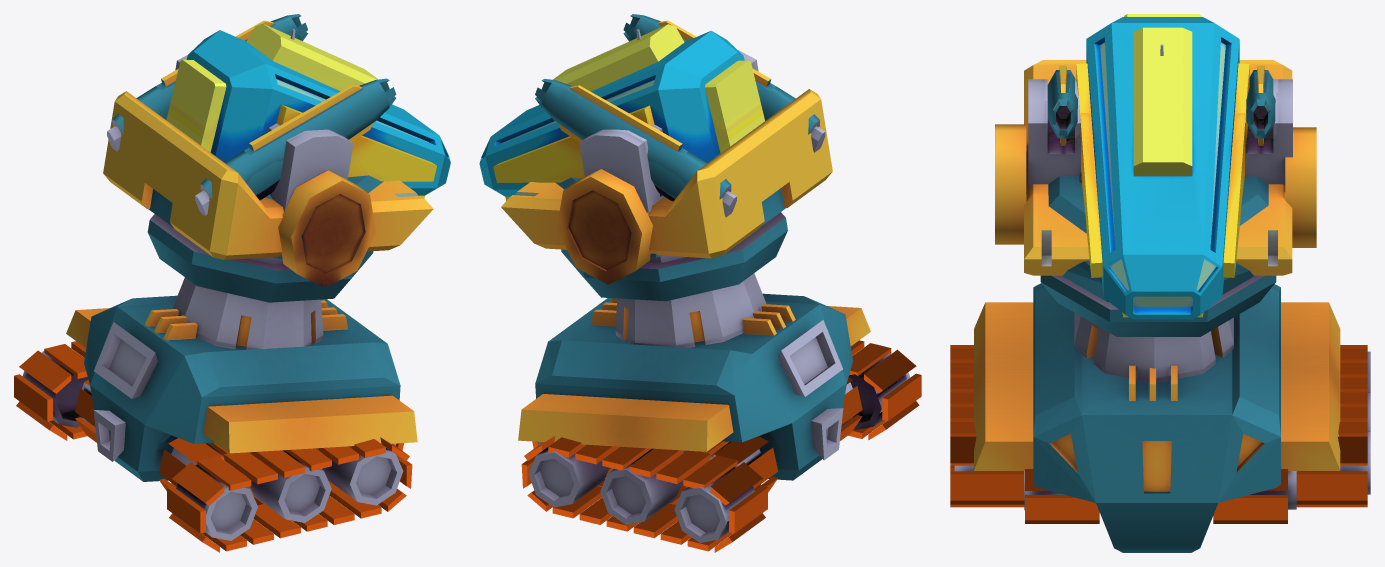
Rendered from Player_move_2_Upgrade15.obj.
The picture shows the model from 3 angles, left to right: view 1: azimuth 30°, elevation 25°; view 2: azimuth 150°, elevation 25°; view 3: azimuth 270°, elevation 25°; orthographic projection. The views are drawn at different scales.
Parts seen in each view (by area): view 1: Object015, Box020, Box018, Object014, Box019, Box017, Box016; view 2: Object015, Box019, Box018, Object014, Box020, Box016, Box017; view 3: Object015, Box019, Box020, Object014, Box017, Box016, Box018, Box009.
Boxes of the visible parts, bbox=[...] form: Object015: bbox=[66, 23, 450, 481]; Box020: bbox=[167, 437, 412, 552]; Box018: bbox=[22, 351, 403, 540]; Object014: bbox=[107, 14, 396, 216]; Box019: bbox=[14, 341, 87, 440]; Box017: bbox=[159, 438, 404, 505]; Box016: bbox=[75, 380, 96, 442]; Object015: bbox=[479, 24, 870, 480]; Box019: bbox=[521, 436, 767, 552]; Box018: bbox=[528, 353, 910, 542]; Object014: bbox=[535, 14, 825, 217]; Box020: bbox=[848, 340, 921, 440]; Box016: bbox=[532, 436, 778, 504]; Box017: bbox=[840, 377, 862, 440]; Object015: bbox=[974, 14, 1340, 552]; Box019: bbox=[1296, 345, 1367, 507]; Box020: bbox=[950, 345, 1024, 507]; Object014: bbox=[1047, 65, 1275, 145]; Box017: bbox=[1025, 469, 1099, 523]; Box016: bbox=[1213, 469, 1287, 523]; Box018: bbox=[954, 351, 1370, 494]; Box009: bbox=[1024, 471, 1296, 510].
Bounding box in the file's own units: 70.38 × 88.9 × 68.55.
6 materials, 4 textured.
